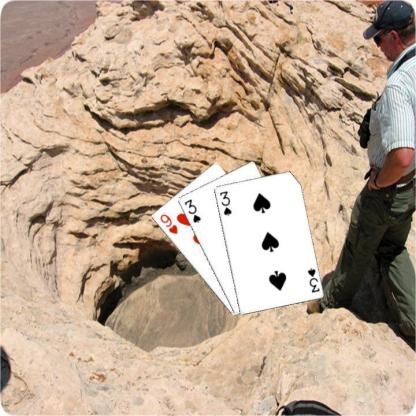3S: (181, 197, 202, 224), (305, 265, 321, 294), (217, 188, 232, 217)
9H: (157, 212, 179, 235)
